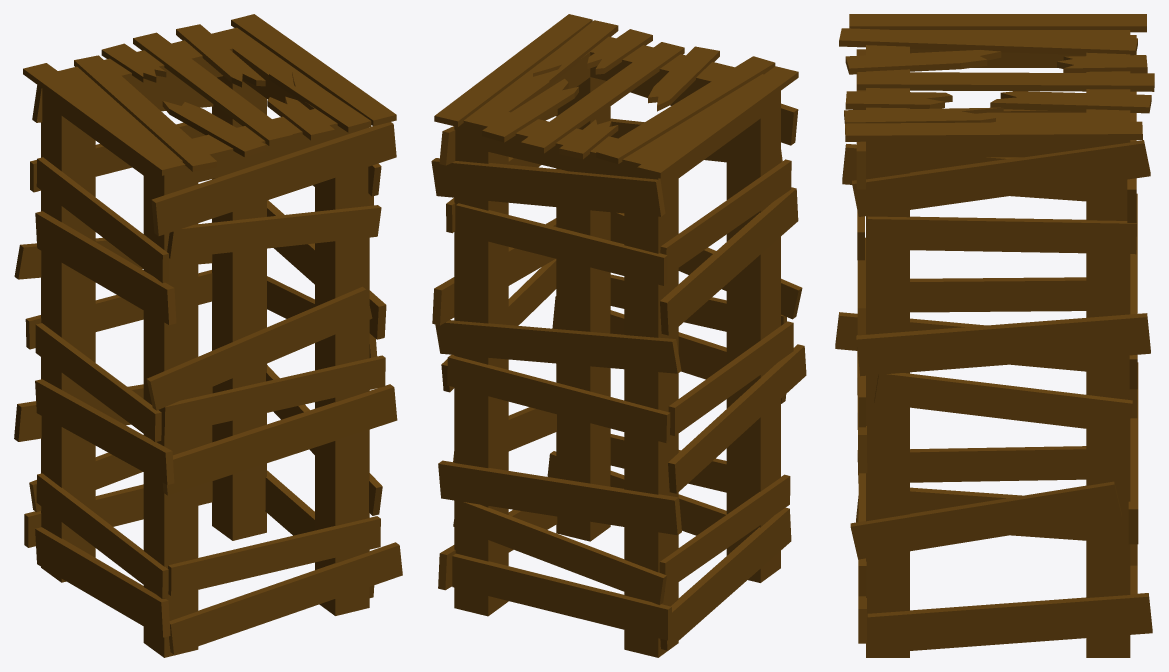
The model's file is Scaffolding.fbx.
The picture shows the model from 3 angles, left to right: view 1: azimuth 30°, elevation 25°; view 2: azimuth 150°, elevation 25°; view 3: azimuth 270°, elevation 25°; orthographic projection. The views are drawn at different scales.
Visible parts, largest first — view 1: Scaffolding; view 2: Scaffolding; view 3: Scaffolding.
Part boxes in pixels (<box>): Scaffolding: <box>14,14,402,657</box>; Scaffolding: <box>431,14,806,657</box>; Scaffolding: <box>835,14,1154,657</box>.
Bounding box in the file's own units: 2.22 × 2.22 × 4.07.
